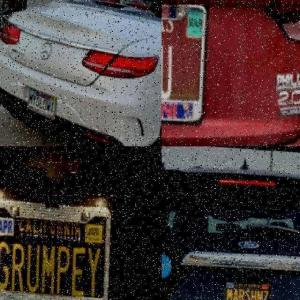Plate: (0, 195, 112, 300), (161, 1, 205, 119), (222, 274, 272, 300), (25, 85, 58, 120)
